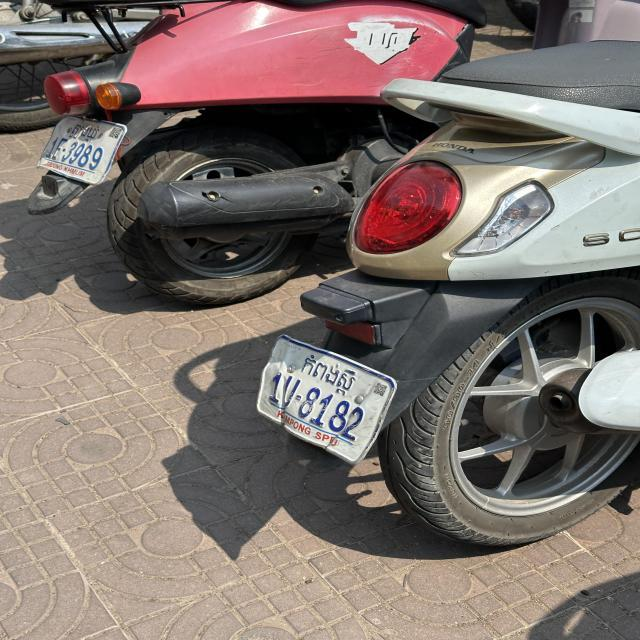Kampong_Speu: (300, 353, 358, 395)
Tboung_Khmum: (69, 124, 102, 143)
